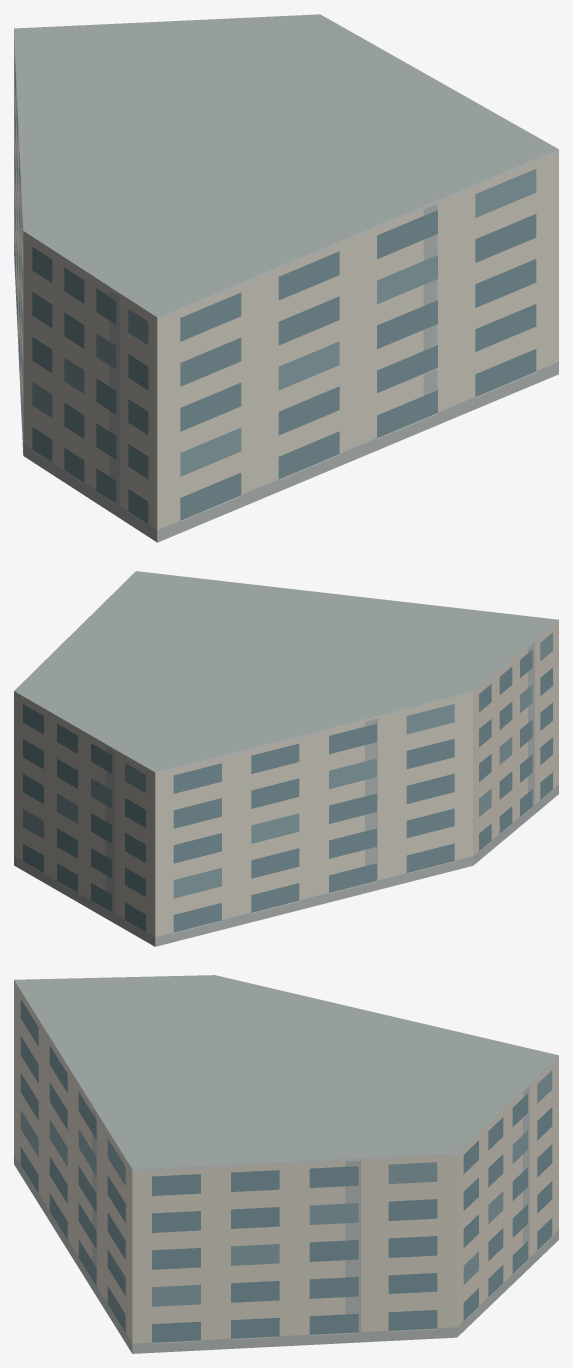
Rendered from residential-86bf7d0b-99e2-4754-8f0a-f6860914dcbd.glb.
3 renders of one model, top to bottom at view 1: azimuth 30°, elevation 25°; view 2: azimuth 150°, elevation 25°; view 3: azimuth 270°, elevation 25°, orthographic. The views are drawn at different scales.
Visible parts, largest first — view 1: residential-86bf7d0b-99e2-4754-8f0a-f6860914dcbd.tmp; view 2: residential-86bf7d0b-99e2-4754-8f0a-f6860914dcbd.tmp; view 3: residential-86bf7d0b-99e2-4754-8f0a-f6860914dcbd.tmp.
Part boxes in pixels (bbox=[...]): residential-86bf7d0b-99e2-4754-8f0a-f6860914dcbd.tmp: bbox=[14, 14, 558, 542]; residential-86bf7d0b-99e2-4754-8f0a-f6860914dcbd.tmp: bbox=[14, 571, 558, 946]; residential-86bf7d0b-99e2-4754-8f0a-f6860914dcbd.tmp: bbox=[14, 975, 558, 1353].
Bounding box in the file's own units: 34.43 × 15.25 × 40.81.
